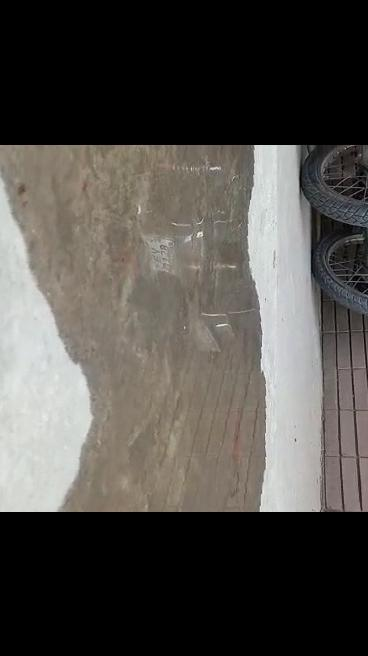water accumulation: (0, 144, 268, 512)
